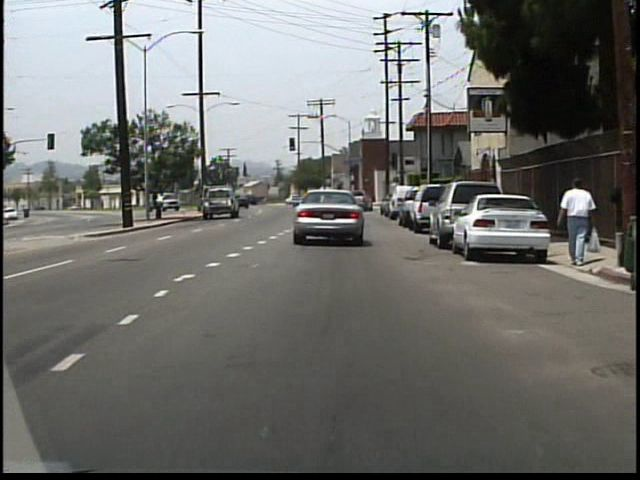person: (556, 175, 596, 269)
